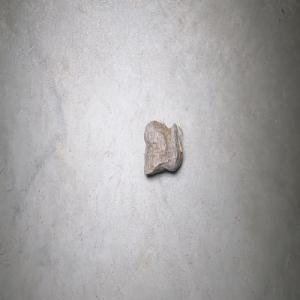Rock: (143, 117, 183, 176)
